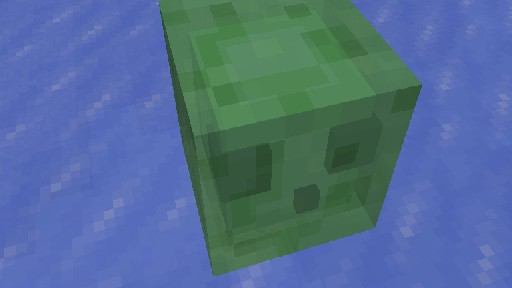slime: (157, 0, 422, 277)
